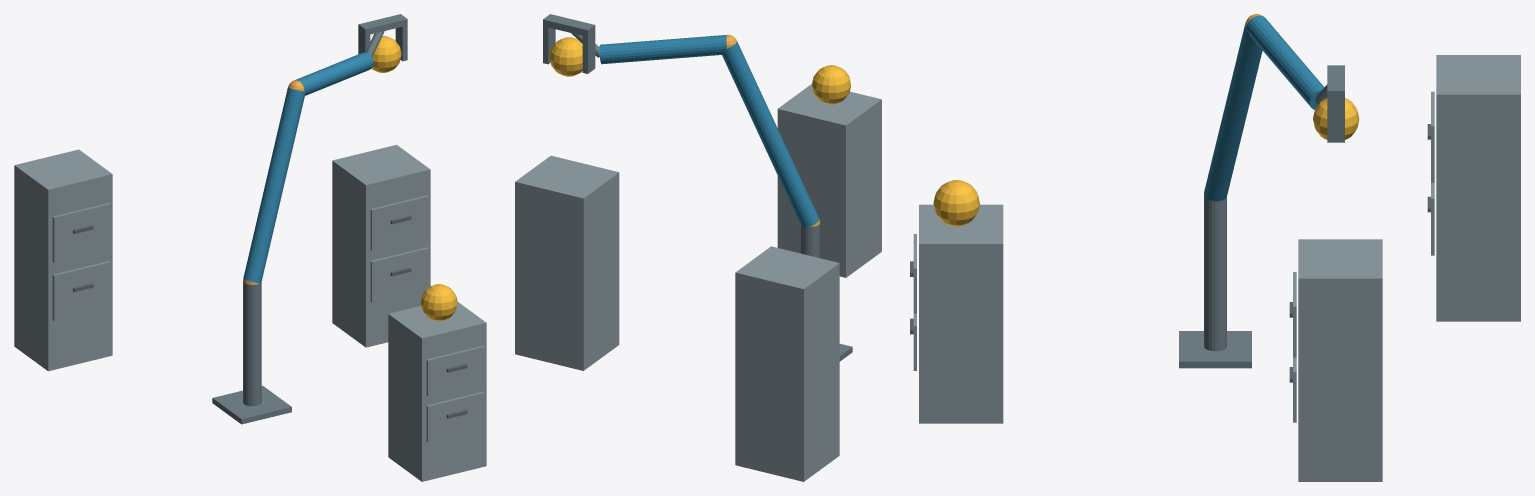
3 renders of one model, left to right at view 1: azimuth 30°, elevation 25°; view 2: azimuth 150°, elevation 25°; view 3: azimuth 270°, elevation 25°, orthographic. The views are drawn at different scales.
Parts seen in each view (by area): view 1: cabinet_3 body, cabinet_2 body, cabinet_1 body, moving link 1, cabinet_3 drawer front, cabinet_3 drawer front.001, cabinet_2 drawer front.001, cabinet_2 drawer front, fixed post, cabinet_1 drawer front, cabinet_1 drawer front.001, pedestal (+4 smaller); view 2: cabinet_3 body, cabinet_2 body, cabinet_1 body, moving link 1, moving link 2, released ball_1, ball ball_2, gripper bridge, fixed post, gripper finger -1; view 3: cabinet_3 body, cabinet_2 body, cabinet_1 body, moving link 1, fixed post, moving link 2, pedestal, released ball_1, ball ball_2, gripper finger 1.
Part boxes in pixels (left/top/right/bottom): cabinet_3 body: left=14, top=149, right=112, bottom=371; cabinet_2 body: left=332, top=144, right=430, bottom=347; cabinet_1 body: left=388, top=302, right=486, bottom=481; moving link 1: left=243, top=87, right=305, bottom=283; cabinet_3 drawer front: left=52, top=261, right=110, bottom=320; cabinet_3 drawer front.001: left=52, top=203, right=110, bottom=262; cabinet_2 drawer front.001: left=370, top=195, right=428, bottom=250; cabinet_2 drawer front: left=370, top=247, right=428, bottom=302; fixed post: left=243, top=282, right=261, bottom=406; cabinet_1 drawer front: left=426, top=391, right=484, bottom=442; cabinet_1 drawer front.001: left=426, top=346, right=484, bottom=396; pedestal: left=212, top=385, right=291, bottom=424; cabinet_3 body: left=735, top=246, right=839, bottom=481; cabinet_2 body: left=515, top=155, right=619, bottom=370; cabinet_1 body: left=777, top=84, right=881, bottom=277; moving link 1: left=722, top=41, right=819, bottom=227; moving link 2: left=599, top=35, right=726, bottom=64; released ball_1: left=812, top=65, right=850, bottom=104; ball ball_2: left=549, top=37, right=582, bottom=76; gripper bridge: left=543, top=14, right=595, bottom=36; fixed post: left=800, top=223, right=820, bottom=257; gripper finger -1: left=582, top=32, right=595, bottom=73; cabinet_3 body: left=1436, top=55, right=1520, bottom=321; cabinet_2 body: left=1298, top=239, right=1382, bottom=481; cabinet_1 body: left=919, top=204, right=1003, bottom=423; moving link 1: left=1204, top=22, right=1262, bottom=201; fixed post: left=1204, top=195, right=1226, bottom=351; moving link 2: left=1246, top=15, right=1324, bottom=109; pedestal: left=1179, top=331, right=1251, bottom=368; released ball_1: left=933, top=180, right=979, bottom=226; ball ball_2: left=1313, top=98, right=1359, bottom=139; gripper finger 1: left=1327, top=99, right=1344, bottom=142.
Bounding box in the file's own units: 1.62 × 1.46 × 2.1.
